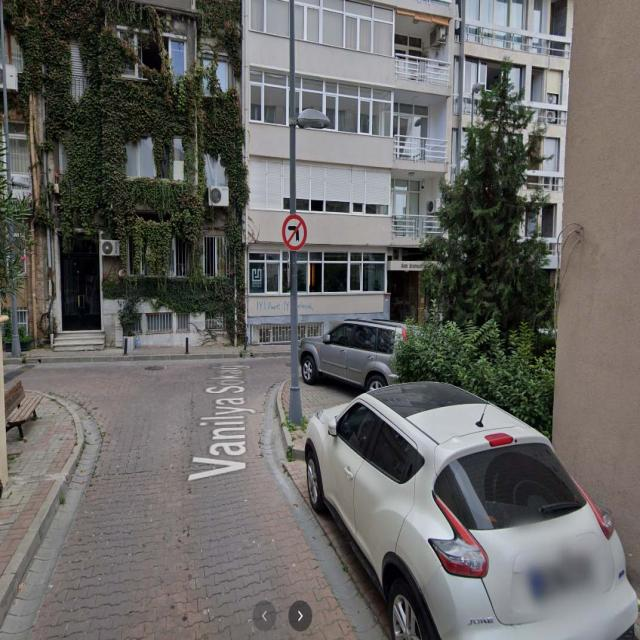soladonulmez: (282, 214, 307, 250)
